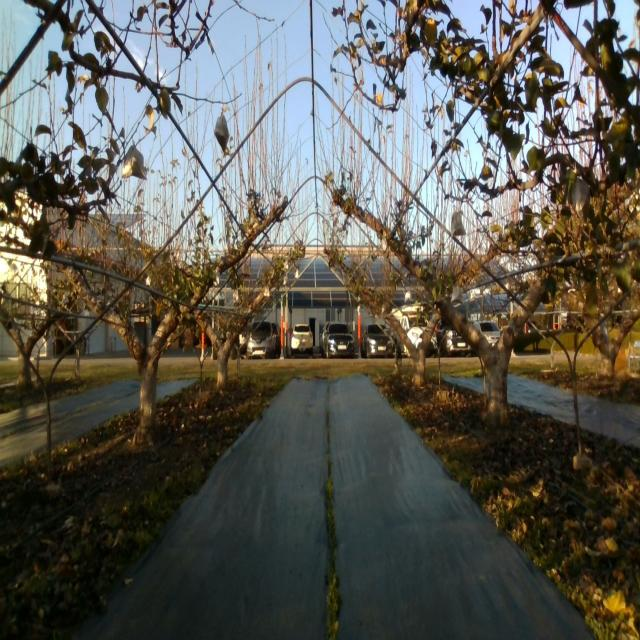pearbags: (570, 178, 590, 223), (123, 146, 147, 181), (215, 114, 229, 154), (451, 213, 467, 238), (451, 286, 464, 304)
